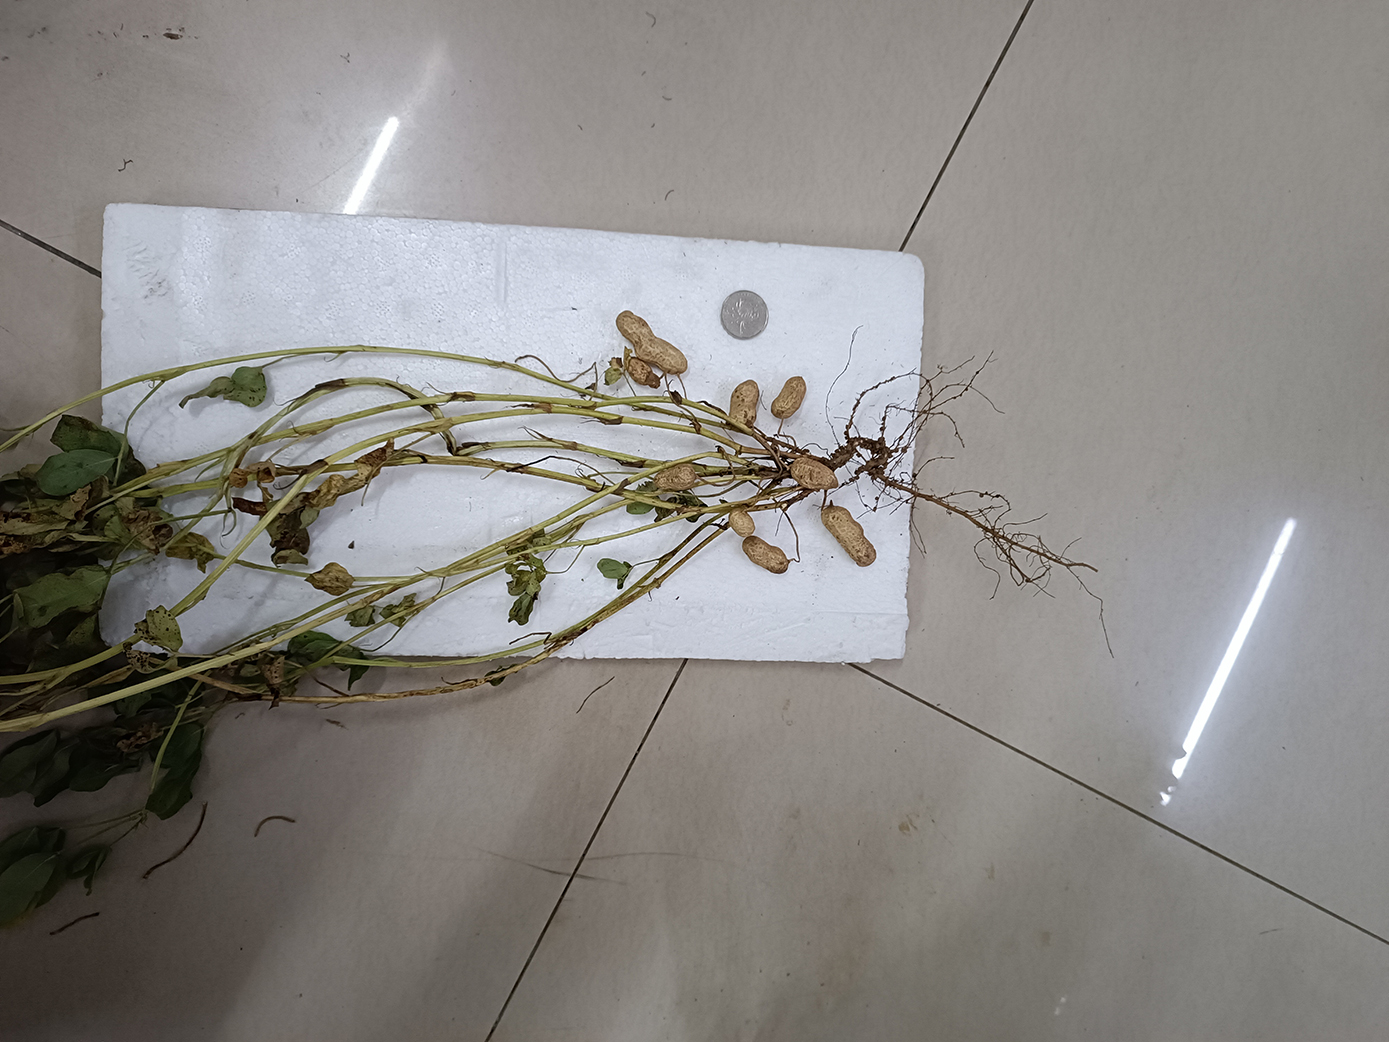h: (616, 309, 687, 373), (822, 503, 876, 568), (742, 536, 790, 574), (771, 374, 808, 420), (791, 456, 838, 489), (729, 380, 760, 427), (653, 463, 697, 490), (729, 506, 755, 536)
l: (627, 358, 660, 389)
